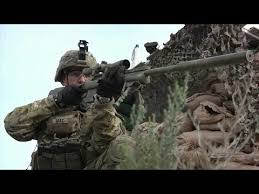gun: (78, 50, 257, 102)
uniform: (4, 86, 123, 170)
